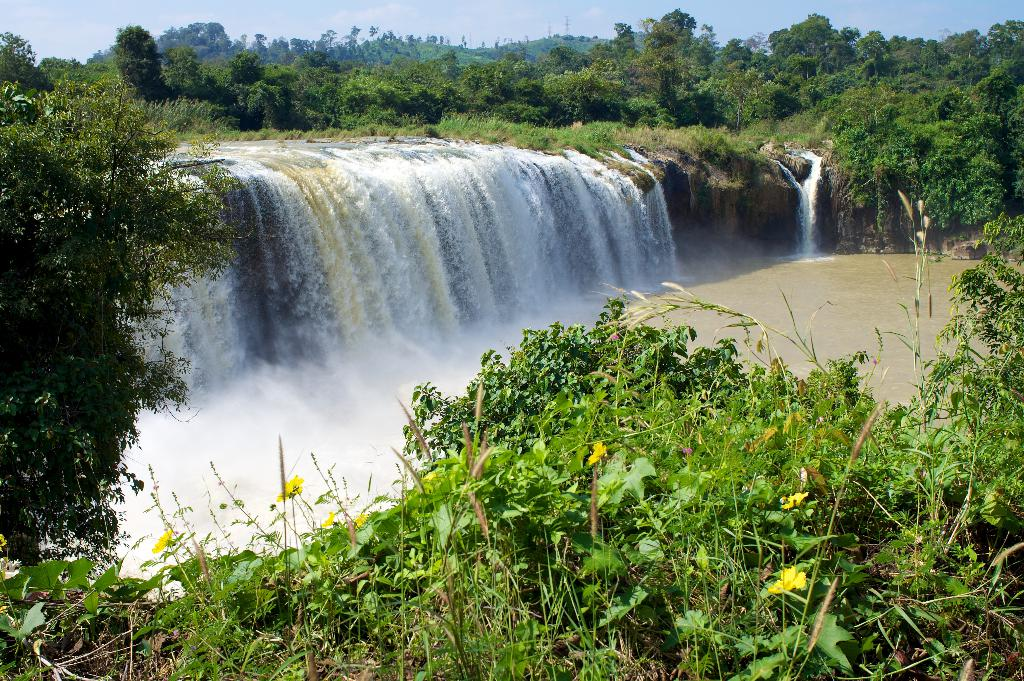Tree: (113, 16, 164, 99)
